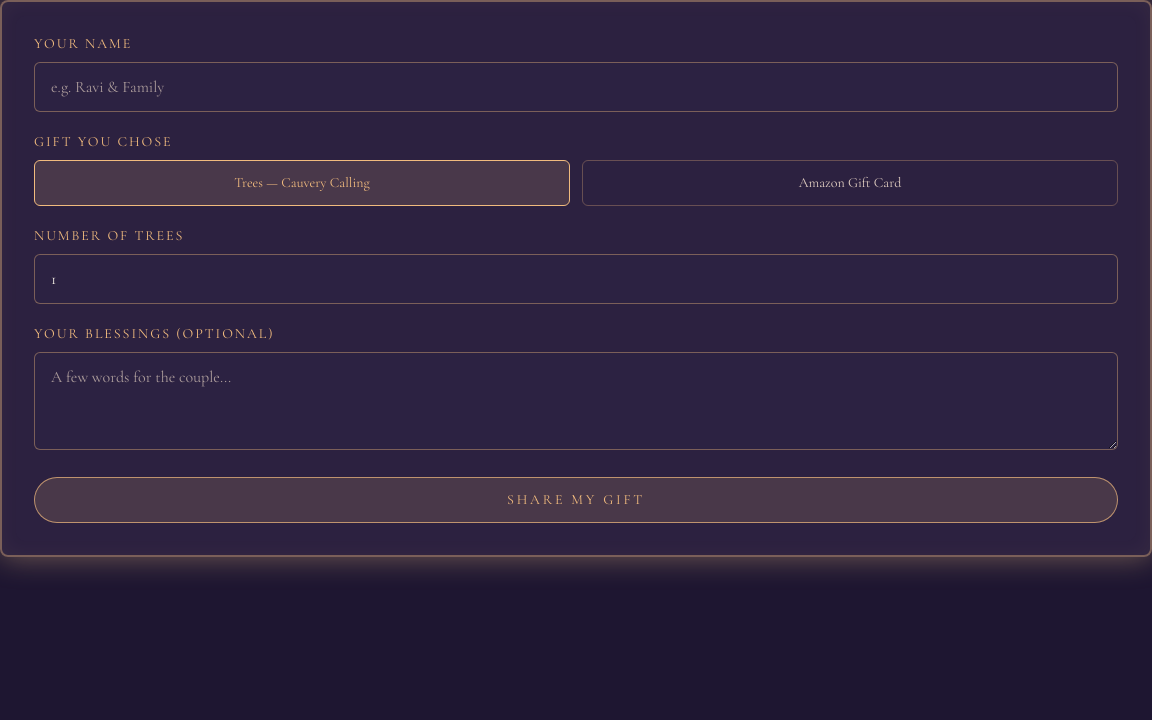
Test case: GiftPledgeForm › requires a guest name
Click the button "Share My Gift" at [576, 500], box x1=34 y1=477 x2=1118 y2=523
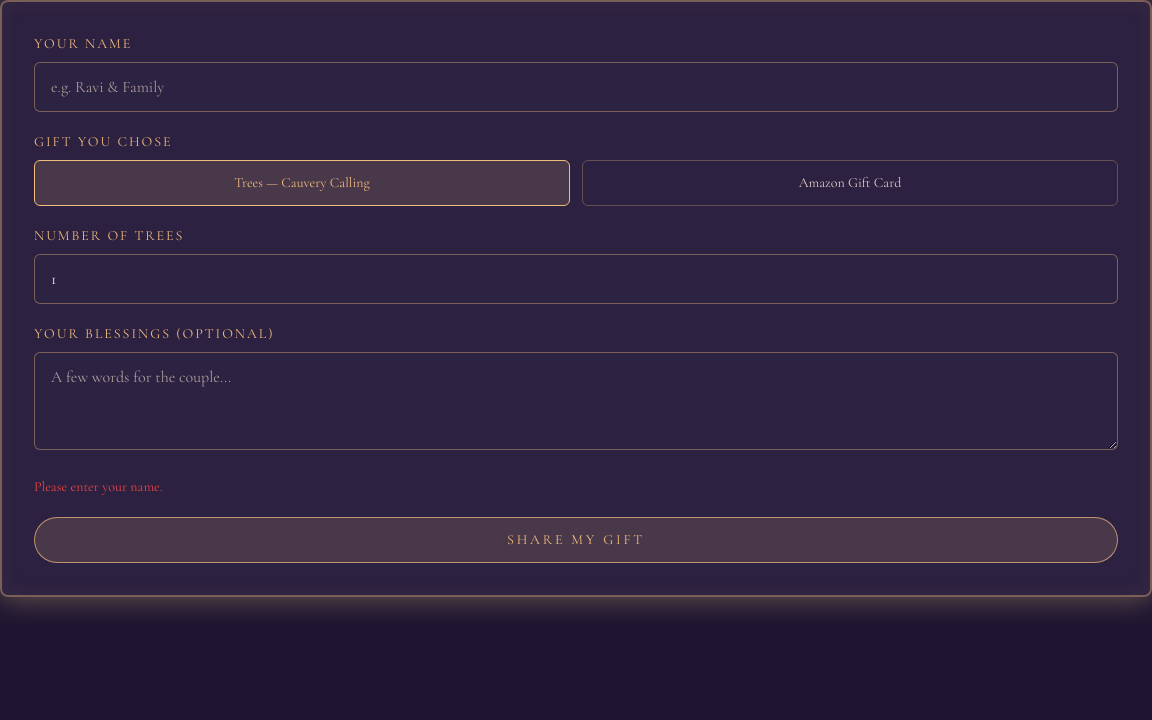
Check: the text "Please enter your name." is shown, box x1=34 y1=478 x2=162 y2=495
